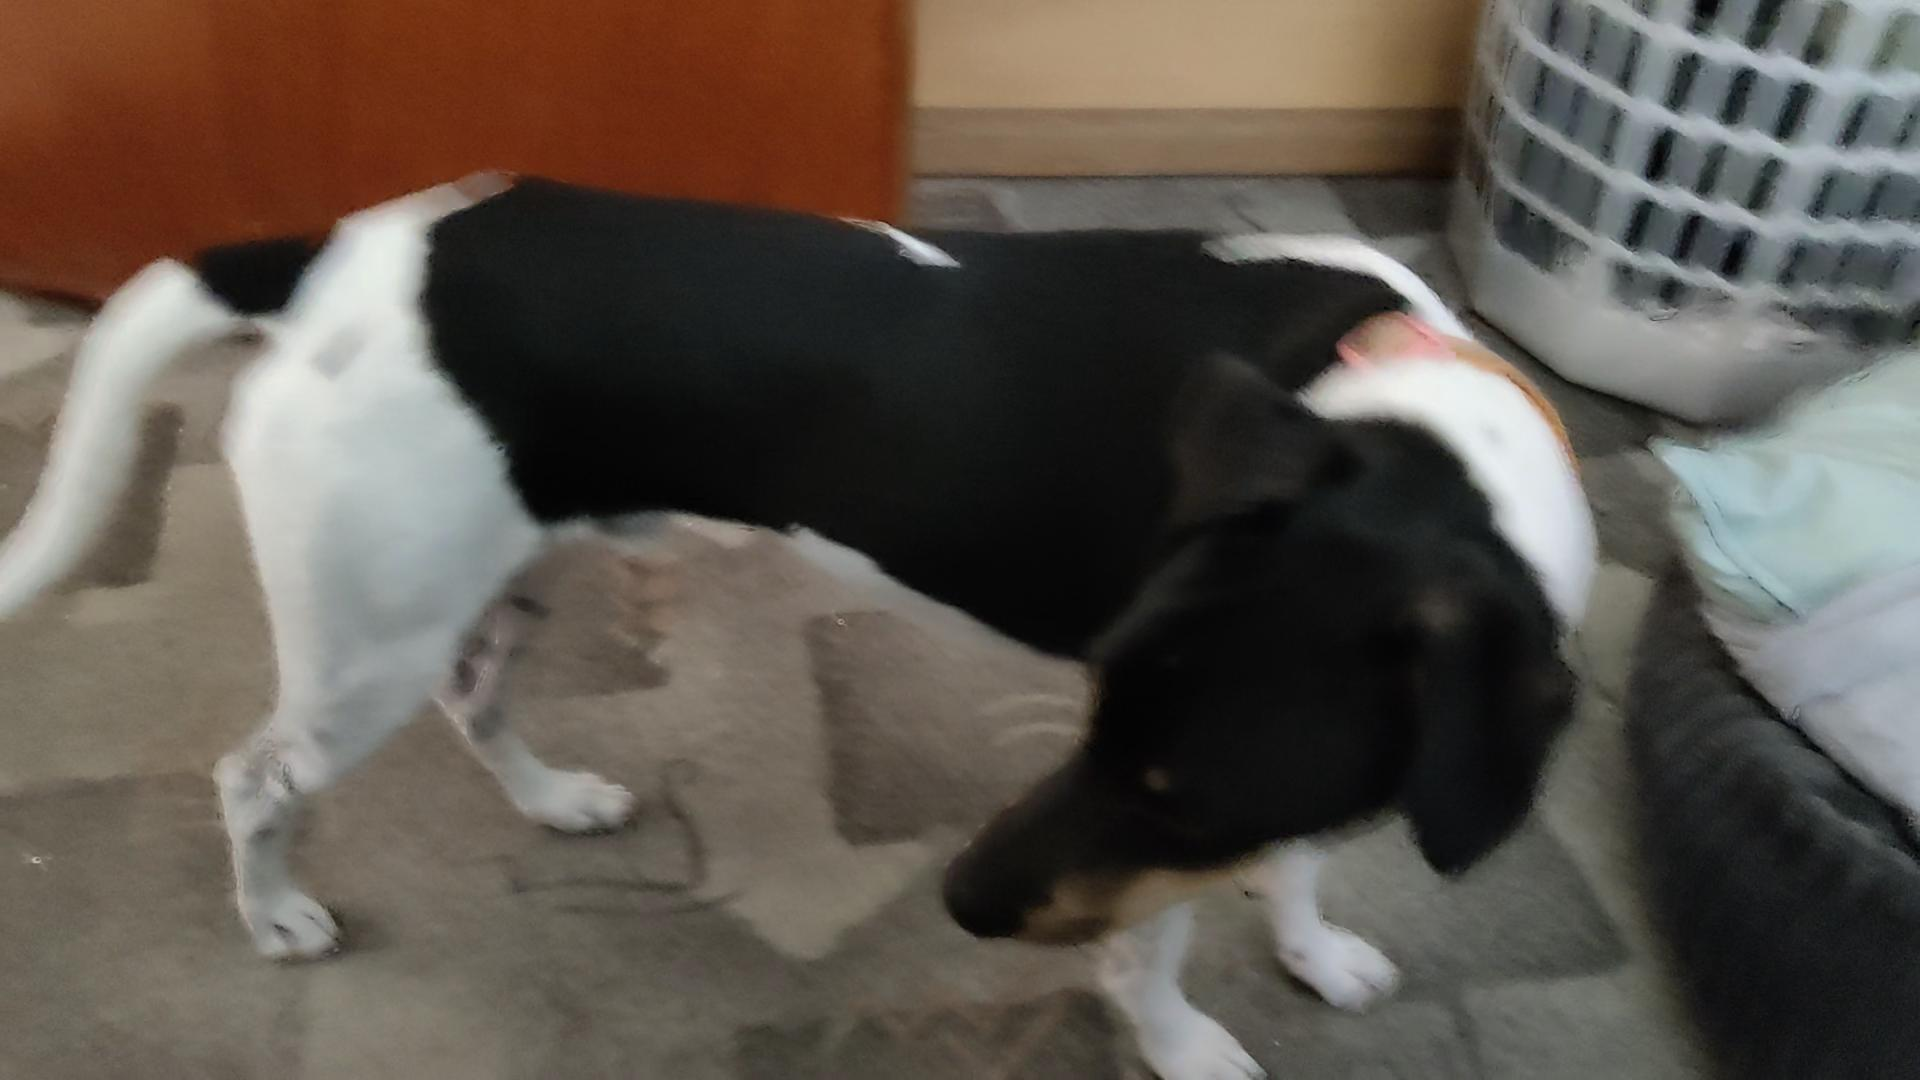Dog: (0, 167, 1611, 1079)
